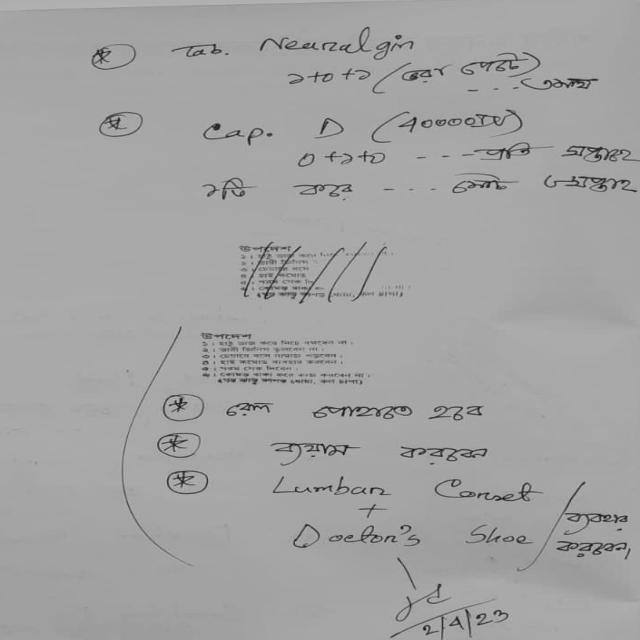medicine: (306, 110, 522, 140), (251, 30, 423, 60)
